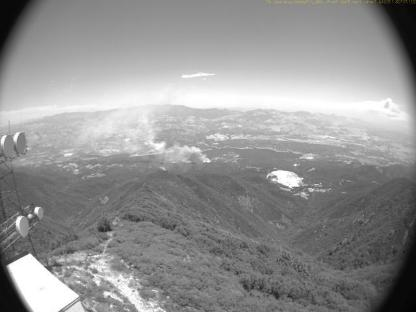smoke: (66, 98, 210, 168)
